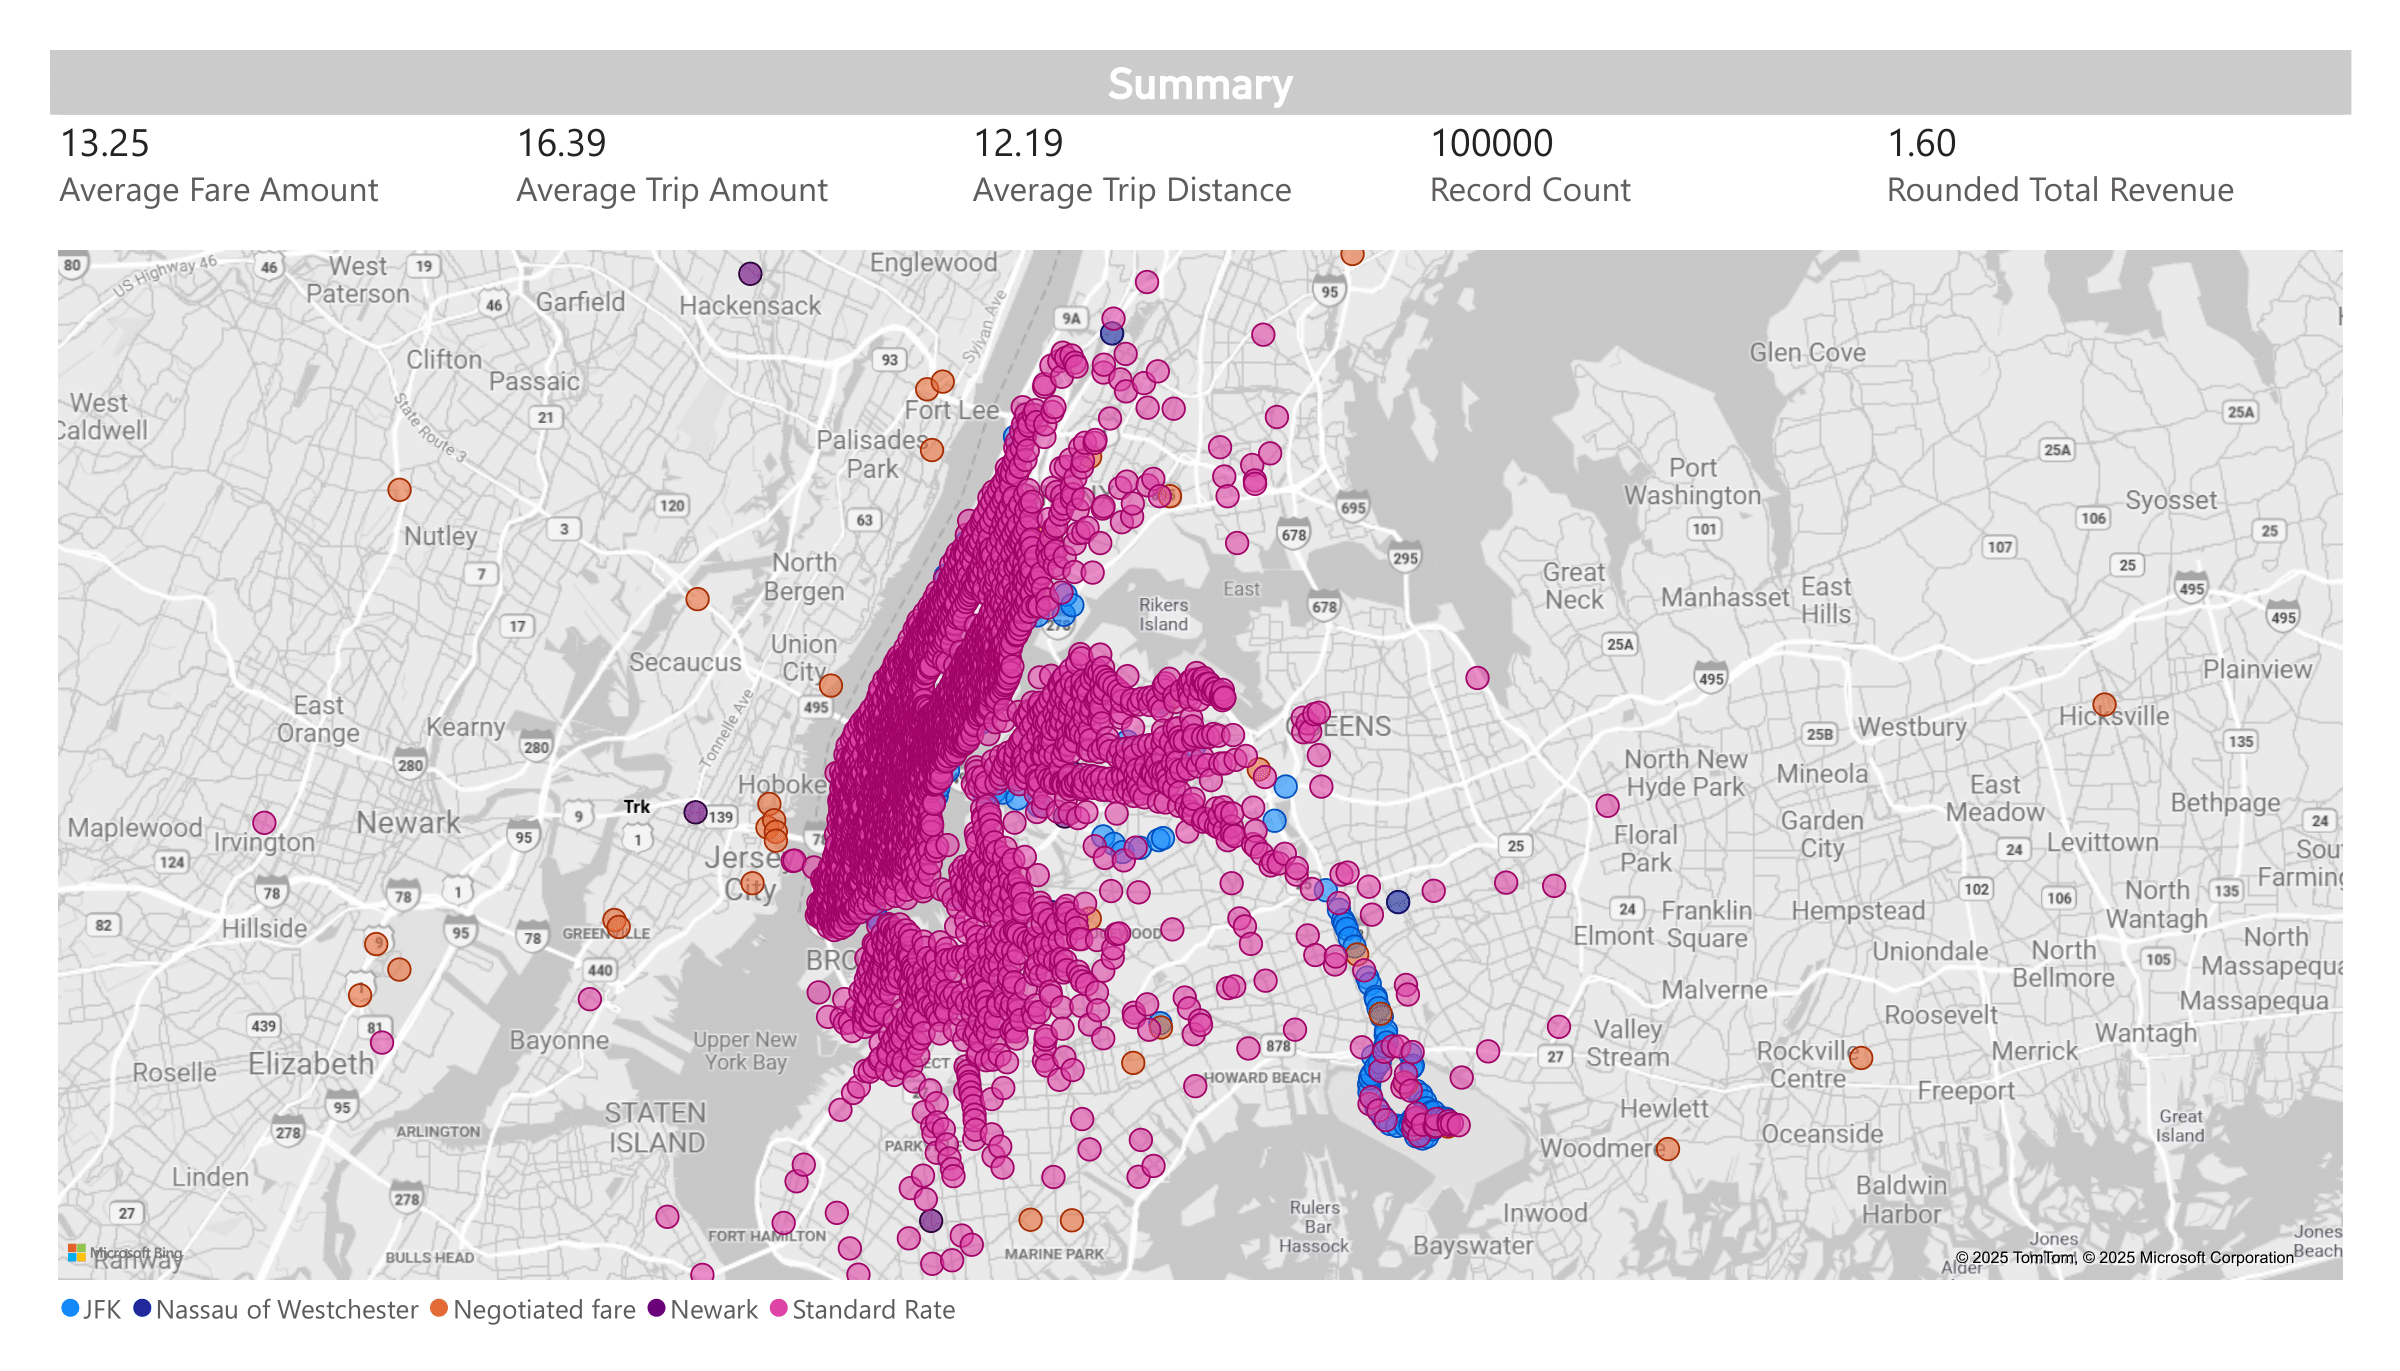

The dashboard page shown, as its layout file describes it:
{"tool":"powerbi","page":{"name":"NYC Map","canvas":[1280,720],"ordinal":0},"visuals":[{"type":"map","fields":{"X":["pickup_location_dim.pickup_longitude"],"Y":["pickup_location_dim.pickup_latitude"],"Series":["rate_code_dim.rate_code_name"]},"box":[0,106.6,1280.4,613],"z":0},{"type":"multiRowCard","title":"Summary","fields":{"Values":["fact_table.Average Fare Amount","fact_table.Average Trip Amount","fact_table.Average Trip Distance","fact_table.Record Count","fact_table.Total Revenue"]},"box":[0,0,1280.4,106.6],"z":1000}]}

Visuals, with their boxes in screenshot pixels (x1, y1, x2, y2), scaled from the page's 1280x720 canvas onto the 2400x1371 screenshot:
map - pickup_location_dim.pickup_longitude x pickup_location_dim.pickup_latitude: {"left": 0, "top": 203, "right": 2399, "bottom": 1370}
"Summary" multiRowCard: {"left": 0, "top": 0, "right": 2399, "bottom": 203}
